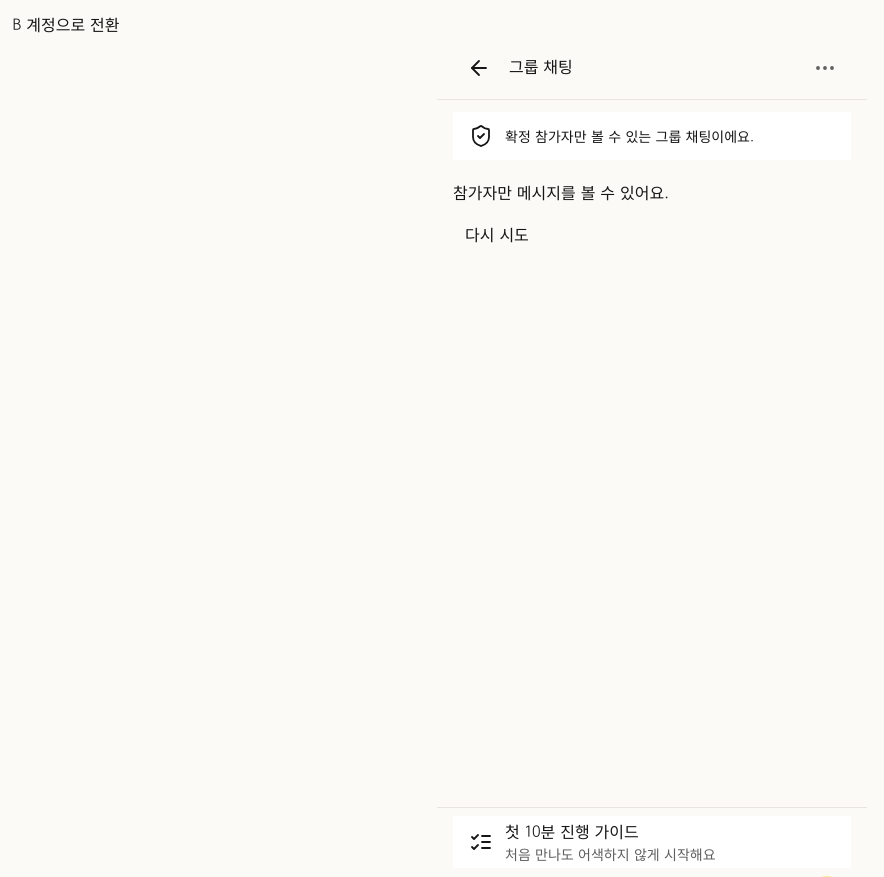
Test: MeetupChatPage API behavior › retries initial list failures and preserves cursor items after append failure
The image size is (884, 877).
Expected: the text "참가자만 메시지를 볼 수 있어요." is shown, [453,180,669,204]
Click the button "다시 시도".
click(497, 234)  # box [453,212,541,256]
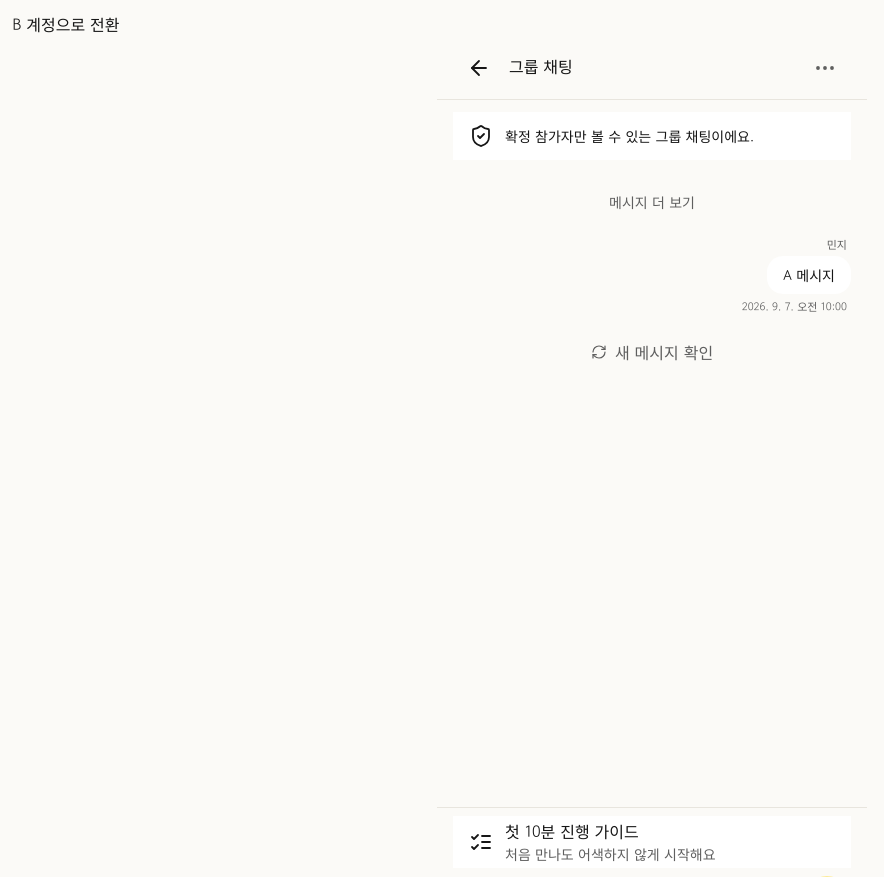
Now the text "A 메시지" is shown, box [767,256,851,294]
Click the button "메시지 더 보기".
click(652, 202)  # box [597,180,707,224]
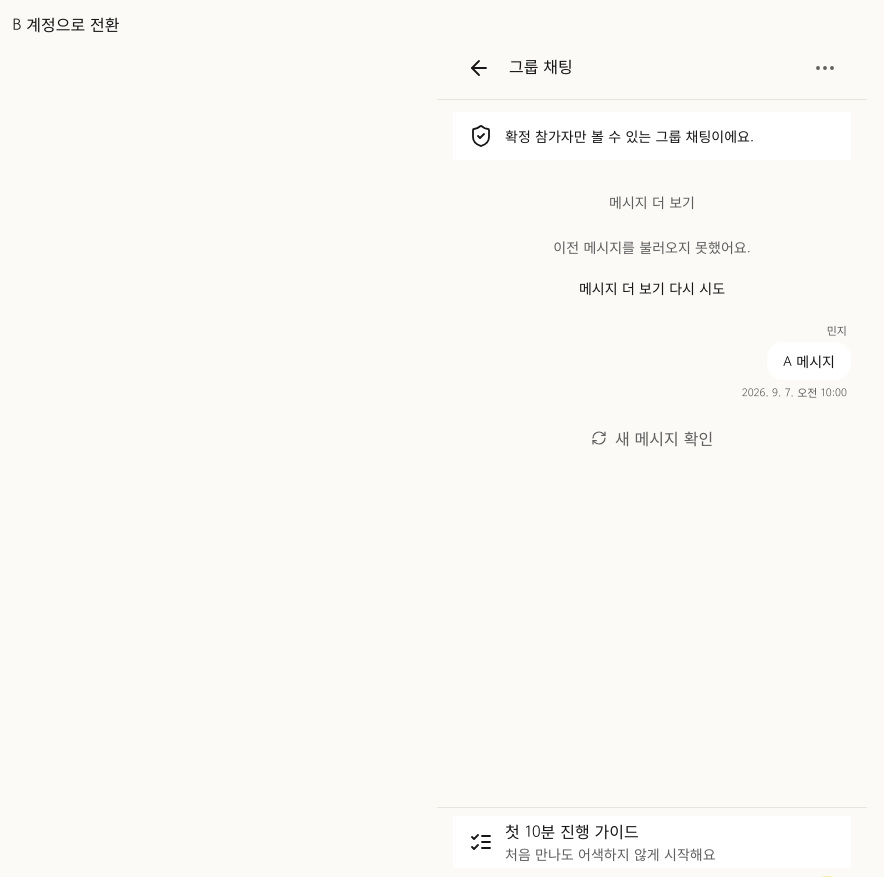
Now the text "A 메시지" is shown, box [767,342,851,380]
Click the button "메시지 더 보기".
click(652, 202)  # box [597,180,707,224]
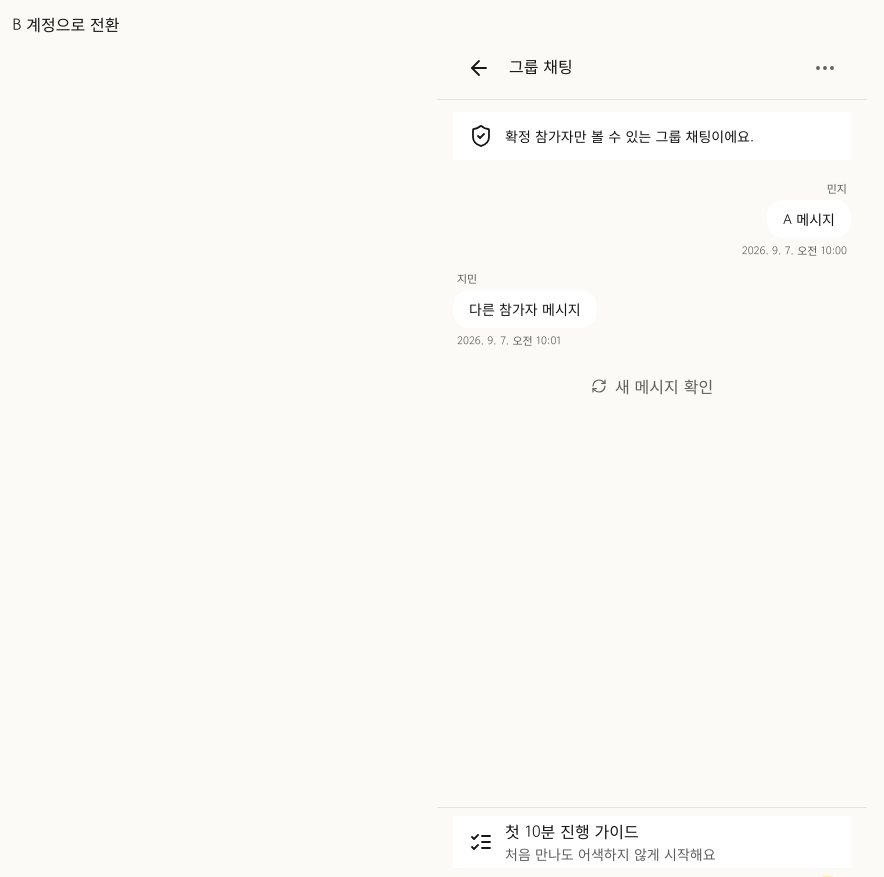
Now the text "다른 참가자 메시지" is shown, box [453,290,597,328]
